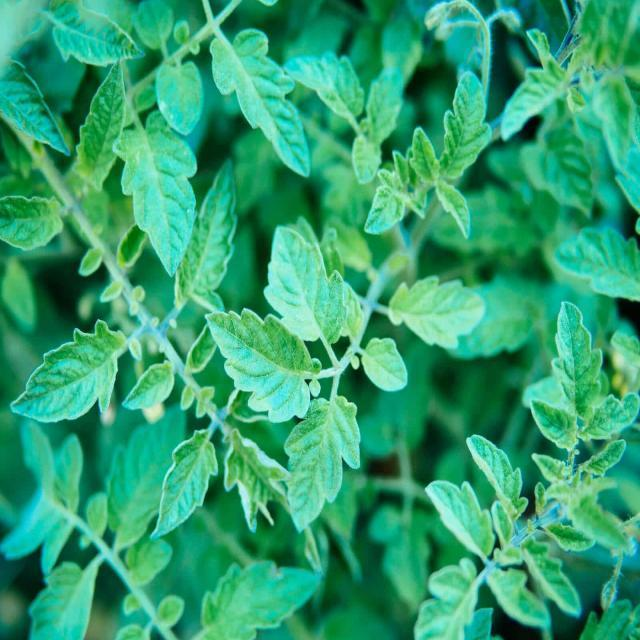Healthy Leaf: (209, 27, 320, 172), (202, 306, 322, 424), (113, 117, 198, 270), (4, 315, 122, 423), (285, 383, 361, 529), (197, 560, 320, 639), (148, 432, 222, 548), (263, 222, 334, 342), (47, 0, 149, 70), (392, 280, 488, 350), (438, 66, 492, 185), (552, 298, 603, 418), (518, 536, 586, 622), (428, 473, 493, 558), (466, 427, 527, 512), (360, 332, 412, 392), (528, 390, 582, 446), (124, 359, 178, 412), (368, 184, 407, 247)
